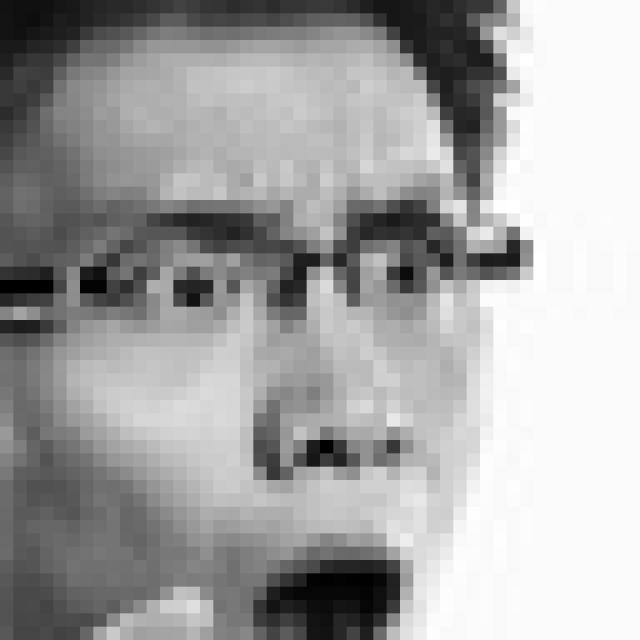surprise: (92, 165, 456, 640)
